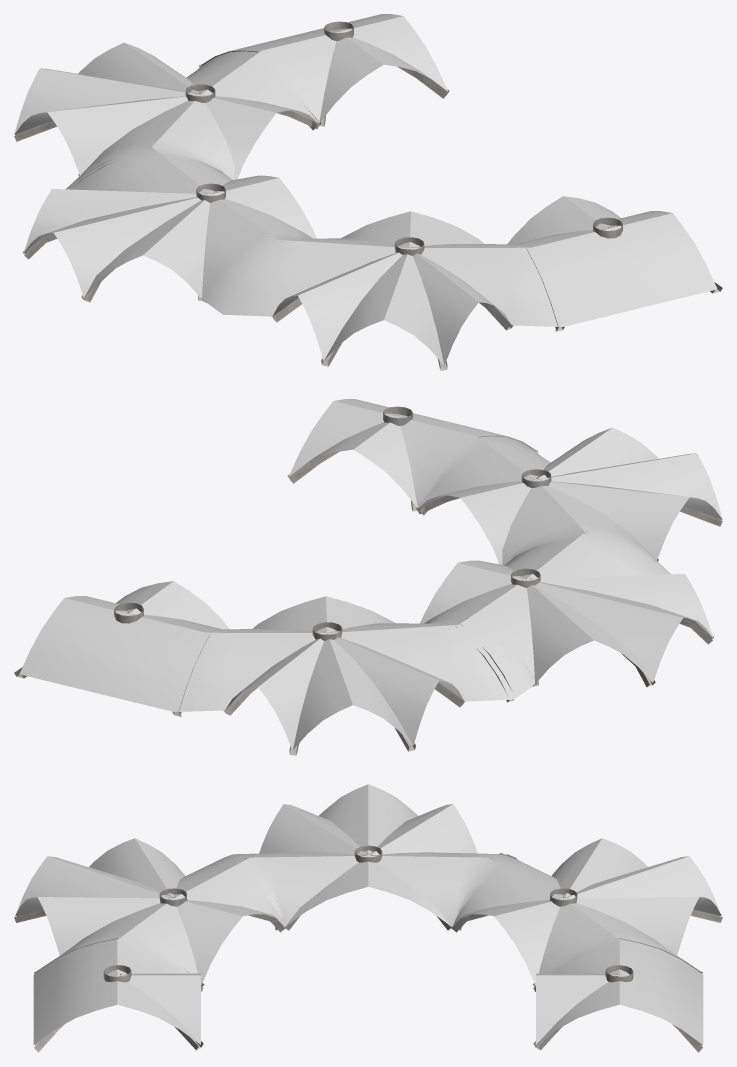
Rendered from Ambulatory_Outer_Ceiling.fbx.
3 renders of one model, top to bottom at view 1: azimuth 30°, elevation 25°; view 2: azimuth 150°, elevation 25°; view 3: azimuth 270°, elevation 25°, orthographic. The views are drawn at different scales.
Parts seen in each view (by area): view 1: Ambulatory_Outer_Ceiling; view 2: Ambulatory_Outer_Ceiling; view 3: Ambulatory_Outer_Ceiling.
Boxes of the visible parts, x1,y1,x2,y2 form: Ambulatory_Outer_Ceiling: (14,14,722,370); Ambulatory_Outer_Ceiling: (14,399,722,755); Ambulatory_Outer_Ceiling: (14,784,722,1052).
Bounding box in the file's own units: 18.96 × 25.41 × 2.01.
